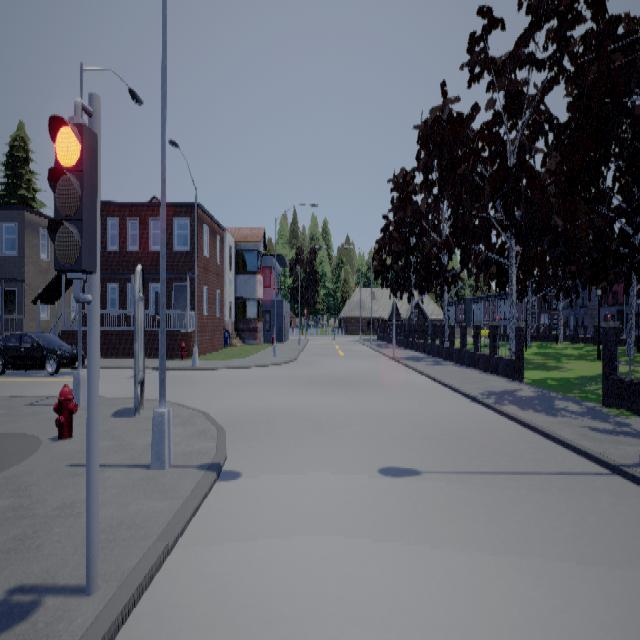red_light: (48, 96, 99, 303)
vehicle: (1, 330, 79, 374)
